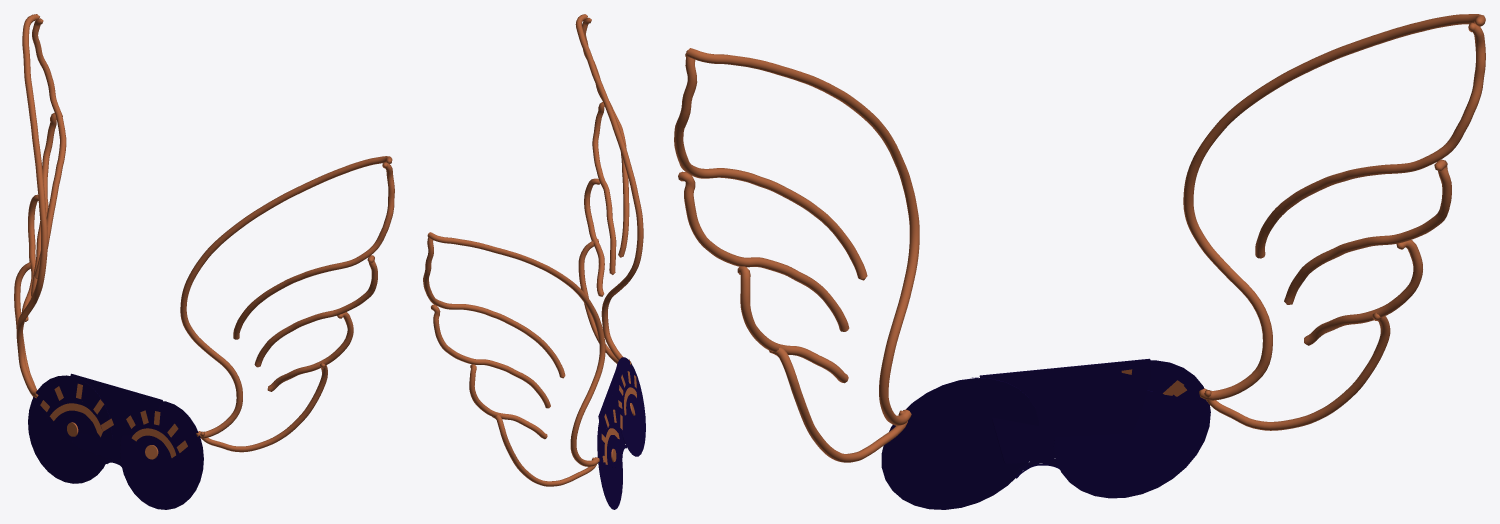
3 renders of one model, left to right at view 1: azimuth 30°, elevation 25°; view 2: azimuth 150°, elevation 25°; view 3: azimuth 270°, elevation 25°, orthographic. The views are drawn at different scales.
Visible parts, largest first — view 1: brush_UnlitHull_g1_b0, brush_Icing_g1_b0, brush_Flat_g1_b0; view 2: brush_Icing_g1_b0, brush_UnlitHull_g1_b0, brush_Flat_g1_b0; view 3: brush_UnlitHull_g1_b0, brush_Icing_g1_b0.
Boxes of the visible parts, x1,y1,x2,y2 form: brush_UnlitHull_g1_b0: [28, 373, 203, 509]; brush_Icing_g1_b0: [14, 14, 394, 452]; brush_Flat_g1_b0: [40, 383, 187, 466]; brush_Icing_g1_b0: [423, 14, 643, 486]; brush_UnlitHull_g1_b0: [597, 357, 645, 509]; brush_Flat_g1_b0: [601, 371, 636, 464]; brush_UnlitHull_g1_b0: [881, 358, 1210, 509]; brush_Icing_g1_b0: [674, 14, 1485, 462].
Size of the model in its own units: 2.24 by 4.2 by 5.31.
